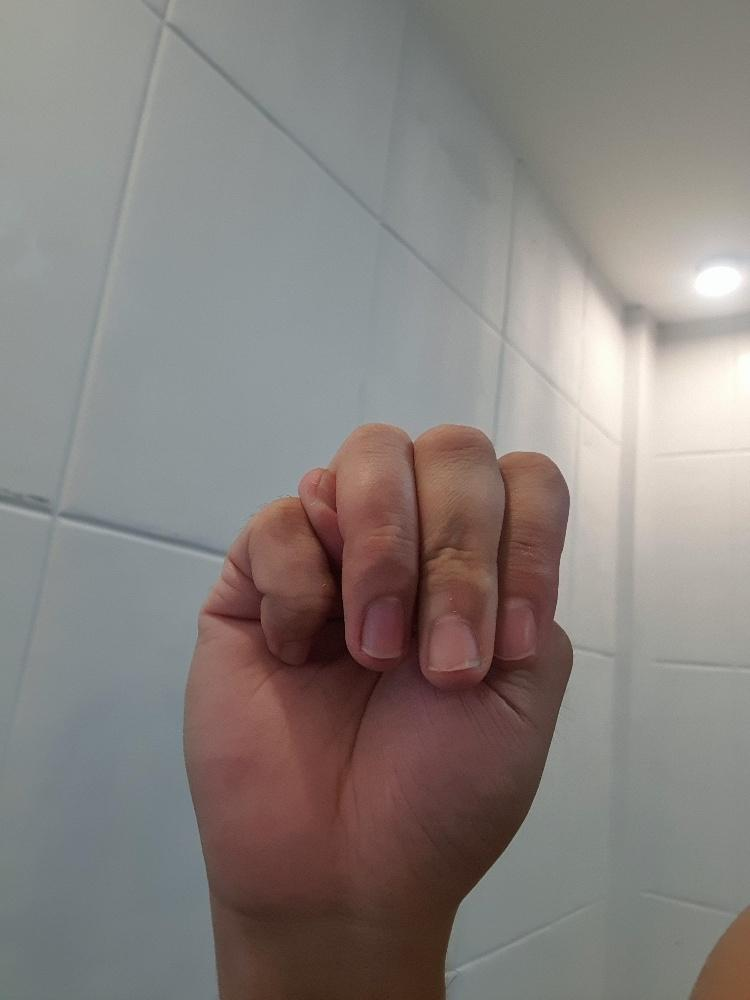m: (177, 415, 577, 927)
